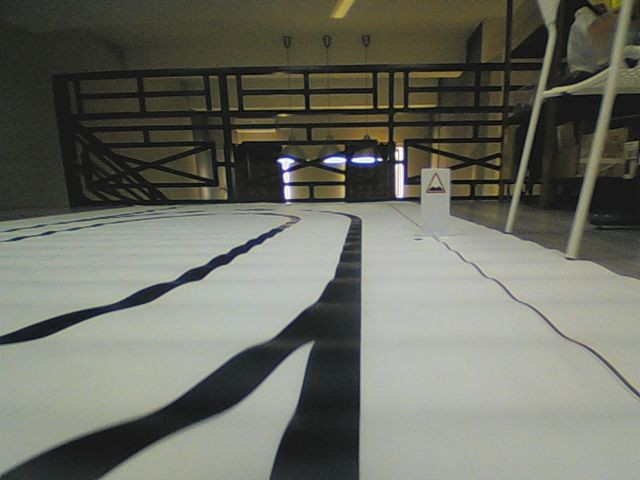Nerov: (424, 171, 446, 194)
